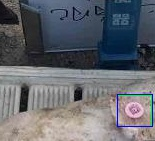text: (117, 95, 151, 126)
